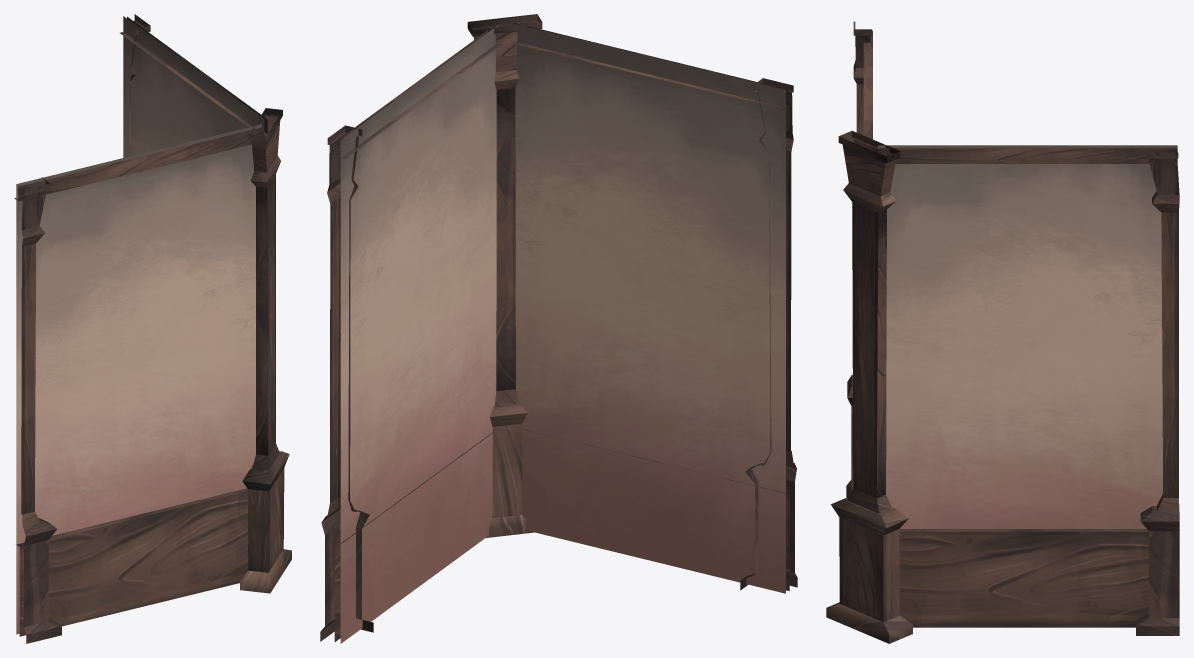
Rendered from Wall_Full_Outer_Corner_LOD1.fbx.
3 views of the same model, side by side, from view 1: azimuth 30°, elevation 25°; view 2: azimuth 150°, elevation 25°; view 3: azimuth 270°, elevation 25° (orthographic). The views are drawn at different scales.
Visible parts, largest first — view 1: Outer_Corner_Wall_LOD1; view 2: Outer_Corner_Wall_LOD1; view 3: Outer_Corner_Wall_LOD1.
Boxes of the visible parts, x1,y1,x2,y2 form: Outer_Corner_Wall_LOD1: (14,14,291,643); Outer_Corner_Wall_LOD1: (320,14,797,643); Outer_Corner_Wall_LOD1: (826,21,1179,643).
Bounding box in the file's own units: 0.0279 × 0.0422 × 0.028.
